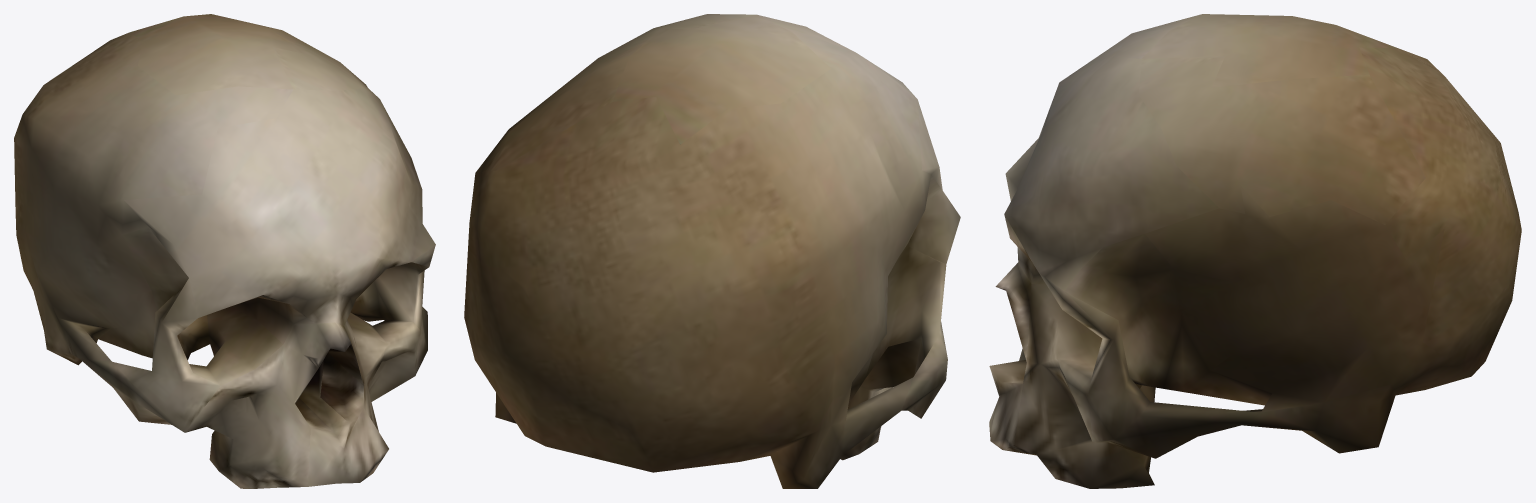
The model's file is skull_04.glb.
3 views of the same model, side by side, from view 1: azimuth 30°, elevation 25°; view 2: azimuth 150°, elevation 25°; view 3: azimuth 270°, elevation 25° (orthographic). The views are drawn at different scales.
Parts seen in each view (by area): view 1: skull_04; view 2: skull_04; view 3: skull_04.
Part boxes in pixels (<box>): skull_04: <box>14,14,435,488</box>; skull_04: <box>464,14,960,488</box>; skull_04: <box>989,14,1521,488</box>.
Bounding box in the file's own units: 0.1548 × 0.1794 × 0.205.
Materials: 1 (1 with a texture image).
